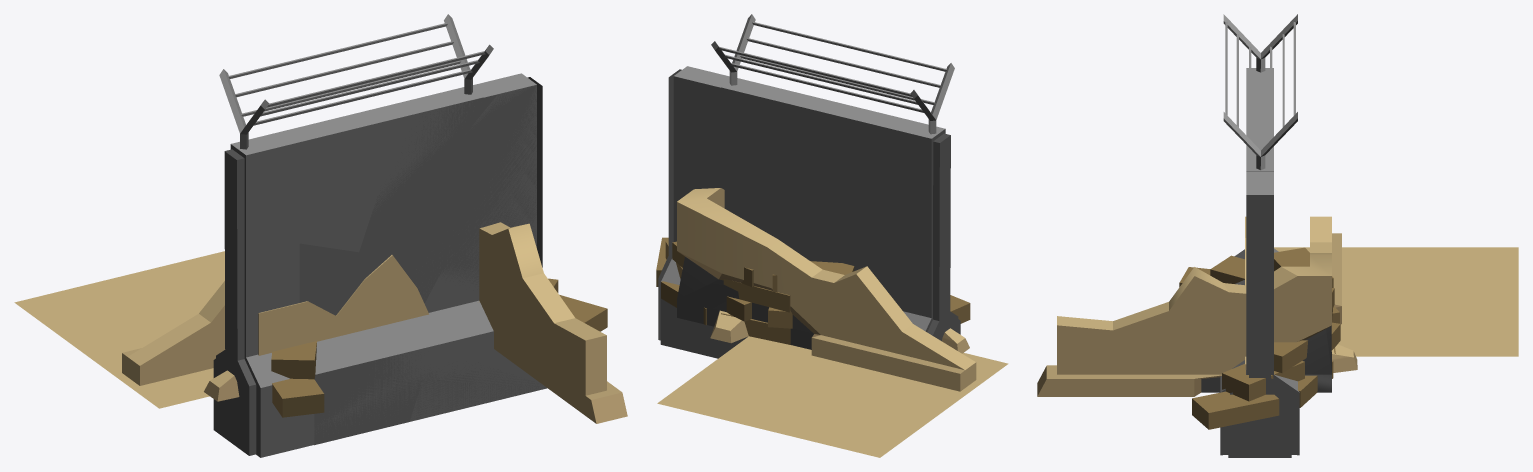
File: MilitaryWalls.gltf
3 renders of one model, left to right at view 1: azimuth 30°, elevation 25°; view 2: azimuth 150°, elevation 25°; view 3: azimuth 270°, elevation 25°, orthographic. The views are drawn at different scales.
Visible parts, largest first — view 1: SM_Prop_Wall_02, SM_Prop_Wall_Concrete_Damaged_01, SM_Env_Wall_Damaged_01, SM_Env_Tile_Dirt_01, SM_Prop_Wall_Concrete_Damaged_02, SM_Env_Wall_Damaged_03, SM_Prop_Sandbags_01; view 2: SM_Prop_Wall_02, SM_Env_Wall_Damaged_01, SM_Env_Tile_Dirt_01, SM_Prop_Wall_Concrete_Damaged_02, SM_Prop_Wall_Concrete_Damaged_01, SM_Prop_Sandbags_01, SM_Env_Wall_Damaged_03; view 3: SM_Env_Wall_Damaged_01, SM_Env_Tile_Dirt_01, SM_Prop_Wall_Concrete_Damaged_02, SM_Prop_Sandbags_01, SM_Prop_Wall_02.
Part boxes in pixels (x1=…): SM_Prop_Wall_02: x1=213, y1=14, x2=497, y2=457; SM_Prop_Wall_Concrete_Damaged_01: x1=299, y1=73, x2=546, y2=445; SM_Env_Wall_Damaged_01: x1=122, y1=222, x2=627, y2=423; SM_Env_Tile_Dirt_01: x1=14, y1=251, x2=224, y2=408; SM_Prop_Wall_Concrete_Damaged_02: x1=410, y1=73, x2=546, y2=421; SM_Env_Wall_Damaged_03: x1=204, y1=255, x2=479, y2=401; SM_Prop_Sandbags_01: x1=271, y1=278, x2=607, y2=417; SM_Prop_Wall_02: x1=708, y1=14, x2=960, y2=356; SM_Env_Wall_Damaged_01: x1=677, y1=188, x2=976, y2=391; SM_Env_Tile_Dirt_01: x1=657, y1=336, x2=1008, y2=457; SM_Prop_Wall_Concrete_Damaged_02: x1=658, y1=66, x2=756, y2=358; SM_Prop_Wall_Concrete_Damaged_01: x1=660, y1=66, x2=884, y2=358; SM_Prop_Sandbags_01: x1=656, y1=237, x2=970, y2=344; SM_Env_Wall_Damaged_03: x1=942, y1=328, x2=969, y2=353; SM_Env_Wall_Damaged_01: x1=1037, y1=216, x2=1357, y2=396; SM_Env_Tile_Dirt_01: x1=1274, y1=247, x2=1518, y2=356; SM_Prop_Wall_Concrete_Damaged_02: x1=1220, y1=178, x2=1299, y2=457; SM_Prop_Sandbags_01: x1=1179, y1=247, x2=1340, y2=429; SM_Prop_Wall_02: x1=1223, y1=14, x2=1297, y2=285.
Bounding box in the file's own units: 0.0834 × 0.0677 × 0.0931.
Materials: 1 (1 with a texture image).
